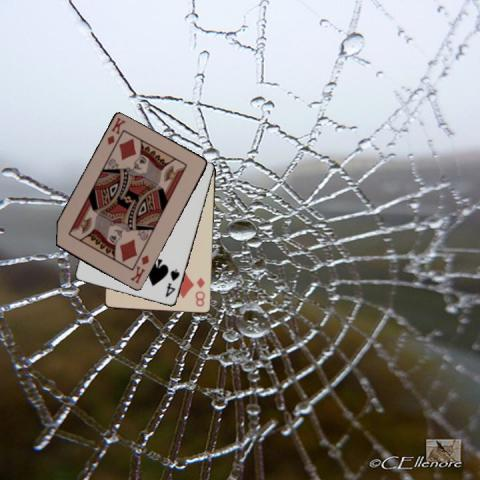4s: (163, 266, 181, 299)
8d: (192, 275, 206, 308)
Kd: (127, 252, 151, 285), (104, 114, 127, 146)
